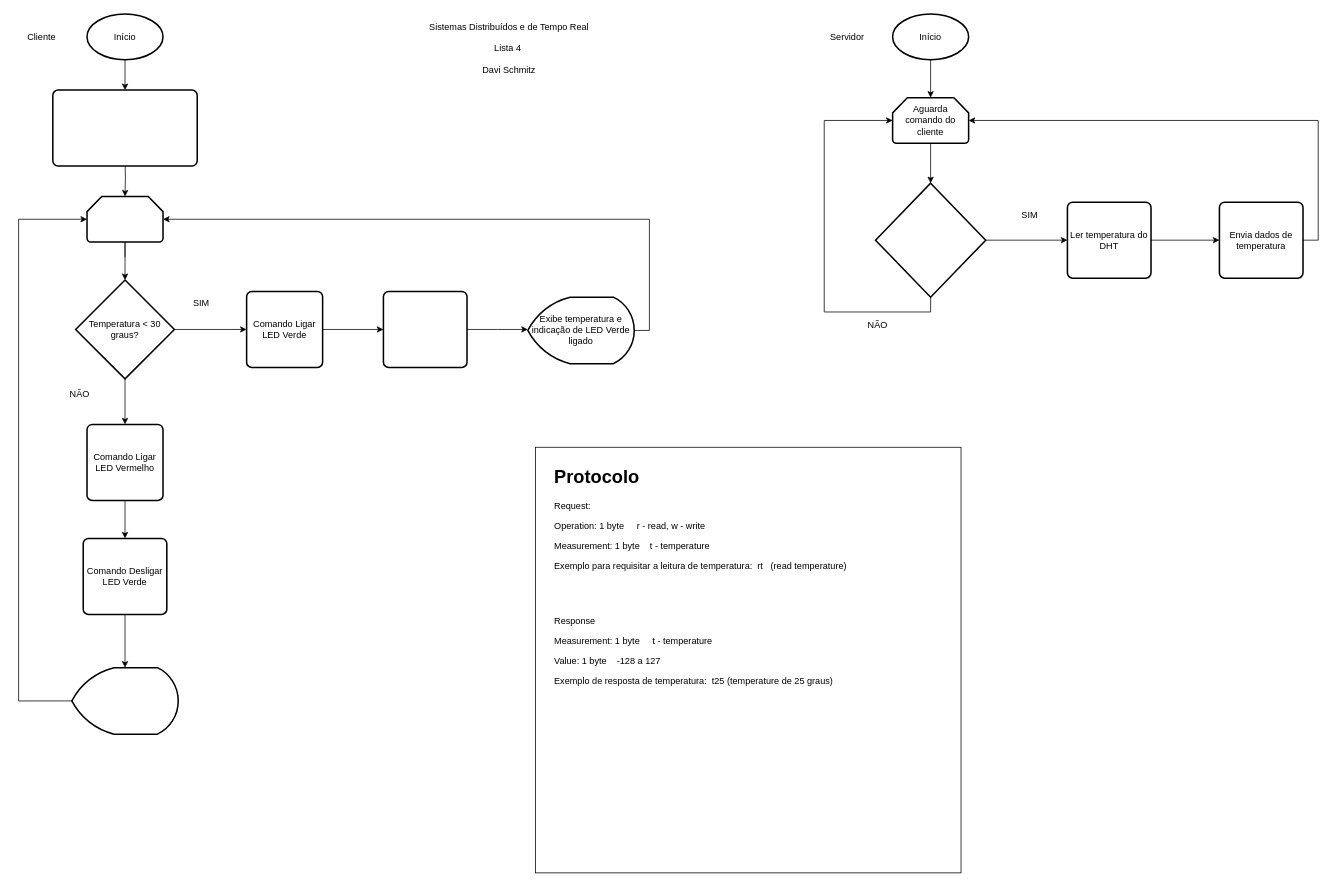
The diagram is 1338 pixels wide and 886 high, and some of its shapes have lost their labels. Here are the shapes that lost their labels. From the top down, the box of each, then its label:
(52, 89, 198, 166): LED Verde desligado LED Vermelho desligado
(86, 195, 163, 242): Requisita a temperatura a cada 1 min
(874, 182, 986, 298): Comando de leitura de temperatura?
(382, 290, 467, 368): Comando Desligar LED Vermelho
(71, 667, 179, 735): Exibe temperatura e indicação de LED Vermelho ligado
